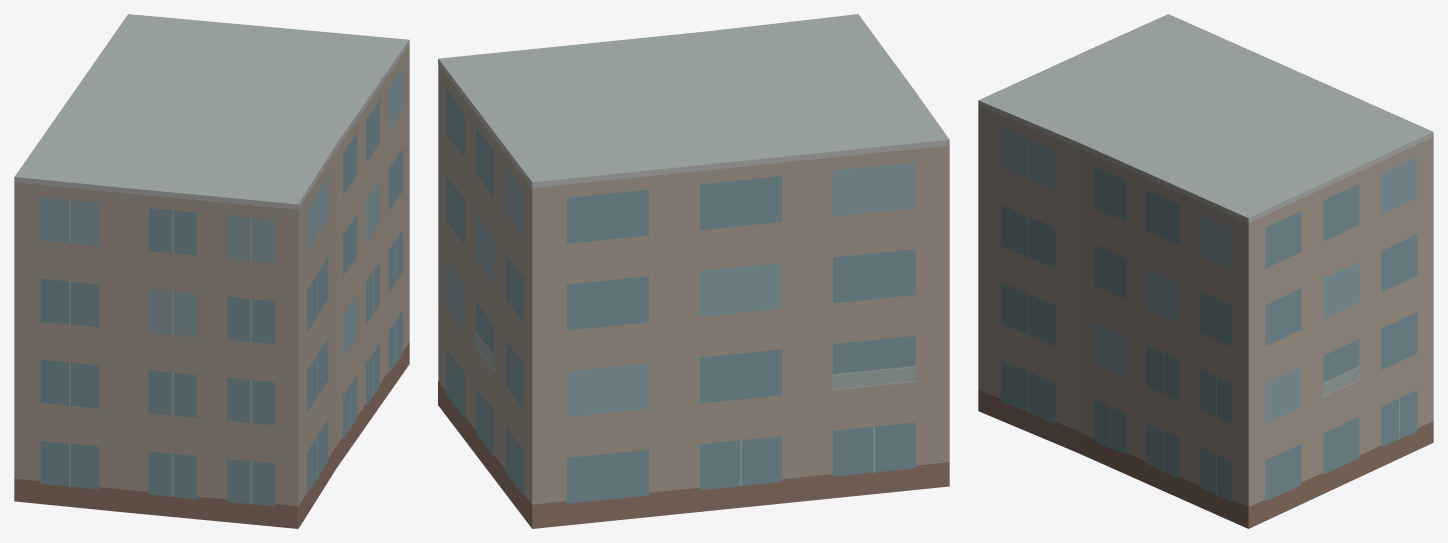
The model's file is survey-upis-32777623.glb.
The picture shows the model from 3 angles, left to right: view 1: azimuth 30°, elevation 25°; view 2: azimuth 150°, elevation 25°; view 3: azimuth 270°, elevation 25°; orthographic projection. The views are drawn at different scales.
Parts seen in each view (by area): view 1: survey-upis-32777623.tmp; view 2: survey-upis-32777623.tmp; view 3: survey-upis-32777623.tmp.
Boxes of the visible parts, x1,y1,x2,y2 form: survey-upis-32777623.tmp: [14, 14, 409, 528]; survey-upis-32777623.tmp: [438, 14, 949, 528]; survey-upis-32777623.tmp: [978, 14, 1433, 528].
Size of the model in its own units: 20.87 by 14.8 by 19.66.
